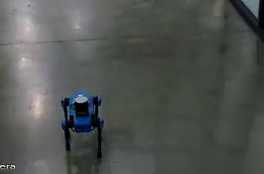robot dog: (56, 88, 108, 162)
